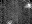person: (9, 19, 13, 24), (26, 5, 31, 8)
